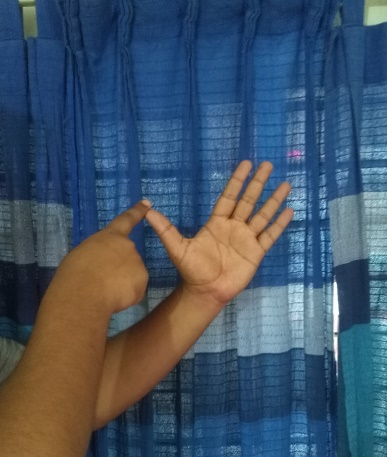a: (89, 158, 294, 303)
